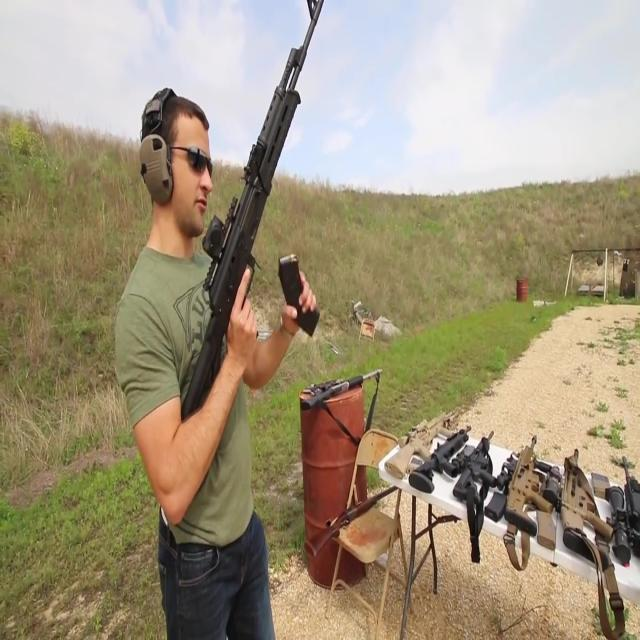Weapon: (164, 2, 316, 480), (380, 360, 640, 576), (296, 306, 408, 440), (293, 484, 410, 556)
